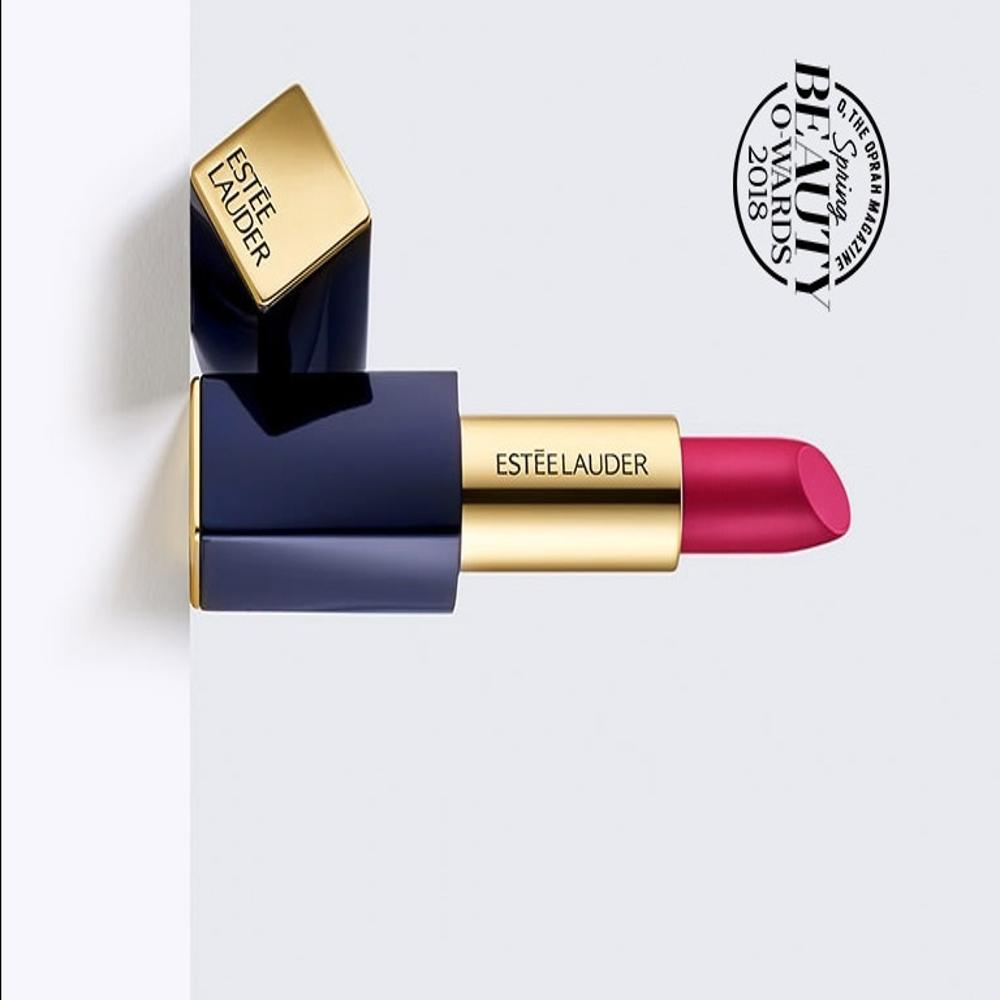lipstick: (148, 328, 849, 633)
